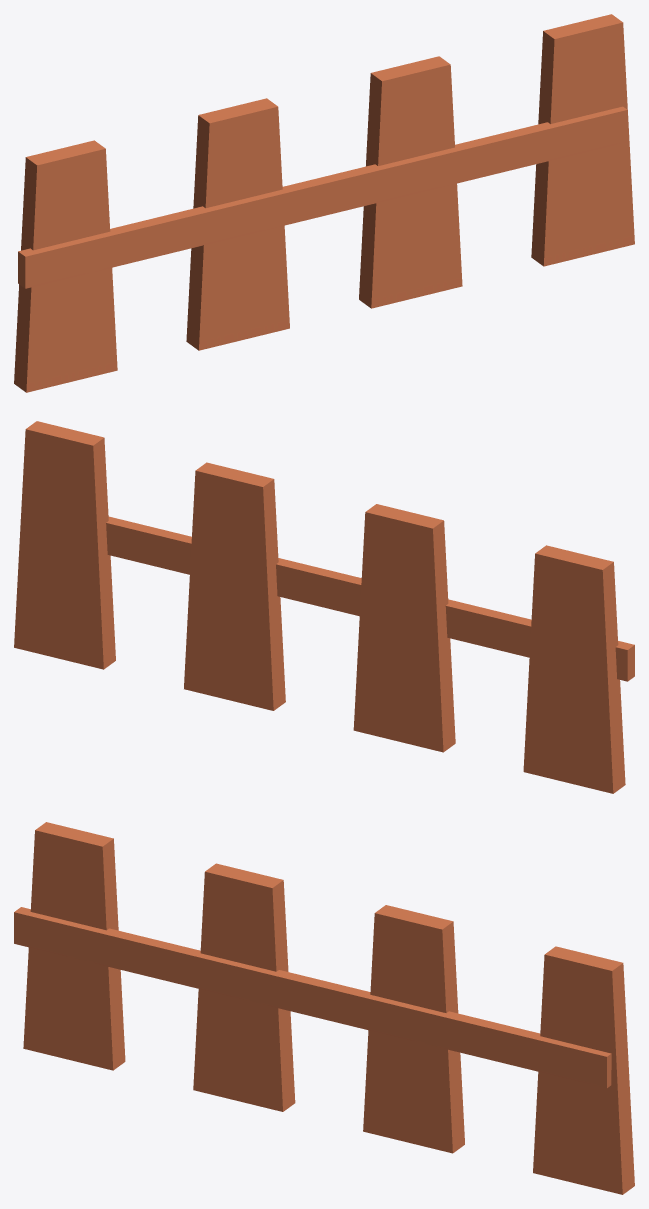
The model's file is Fence2.glb.
3 renders of one model, top to bottom at view 1: azimuth 30°, elevation 25°; view 2: azimuth 150°, elevation 25°; view 3: azimuth 330°, elevation 25°, orthographic.
Parts seen in each view (by area): view 1: Cube.027, Cube.028; view 2: Cube.027, Cube.028; view 3: Cube.027, Cube.028.
Part boxes in pixels (x1,y1,x2,y2): Cube.027: (14, 14, 634, 392); Cube.028: (18, 106, 627, 288); Cube.027: (14, 421, 625, 793); Cube.028: (106, 516, 634, 681); Cube.027: (23, 822, 634, 1194); Cube.028: (14, 907, 611, 1088).
Bounding box in the file's own units: 1.14 × 0.3989 × 0.0538.
1 material, 1 textured.
